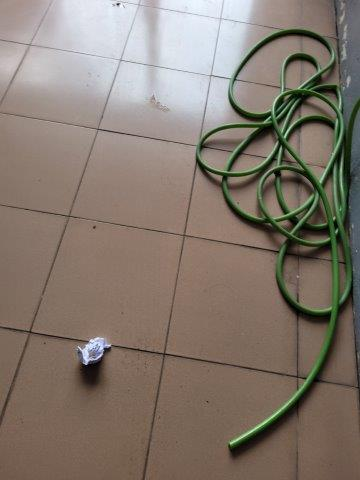kertas: (75, 337, 112, 368)
